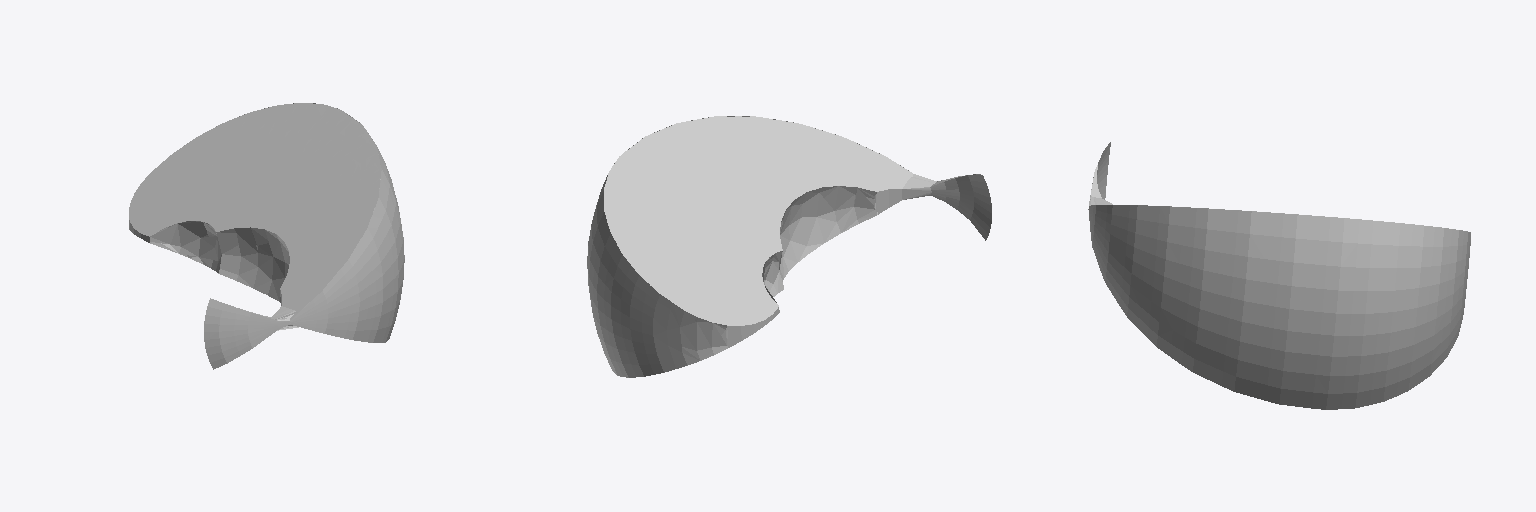
Rendered from index_workspace_concave_hull.obj.
3 renders of one model, left to right at view 1: azimuth 30°, elevation 25°; view 2: azimuth 150°, elevation 25°; view 3: azimuth 270°, elevation 25°, orthographic.
Size of the model in its own units: 0.1846 by 0.1246 by 0.2217.